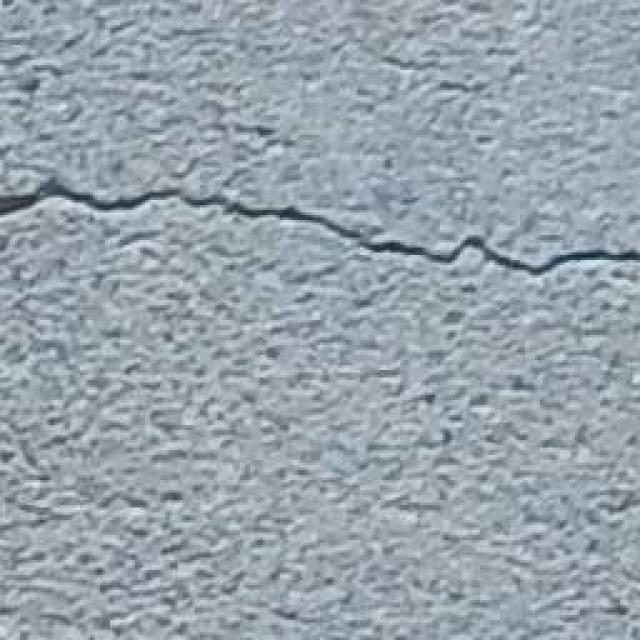concrete-crack: (0, 175, 640, 278)
